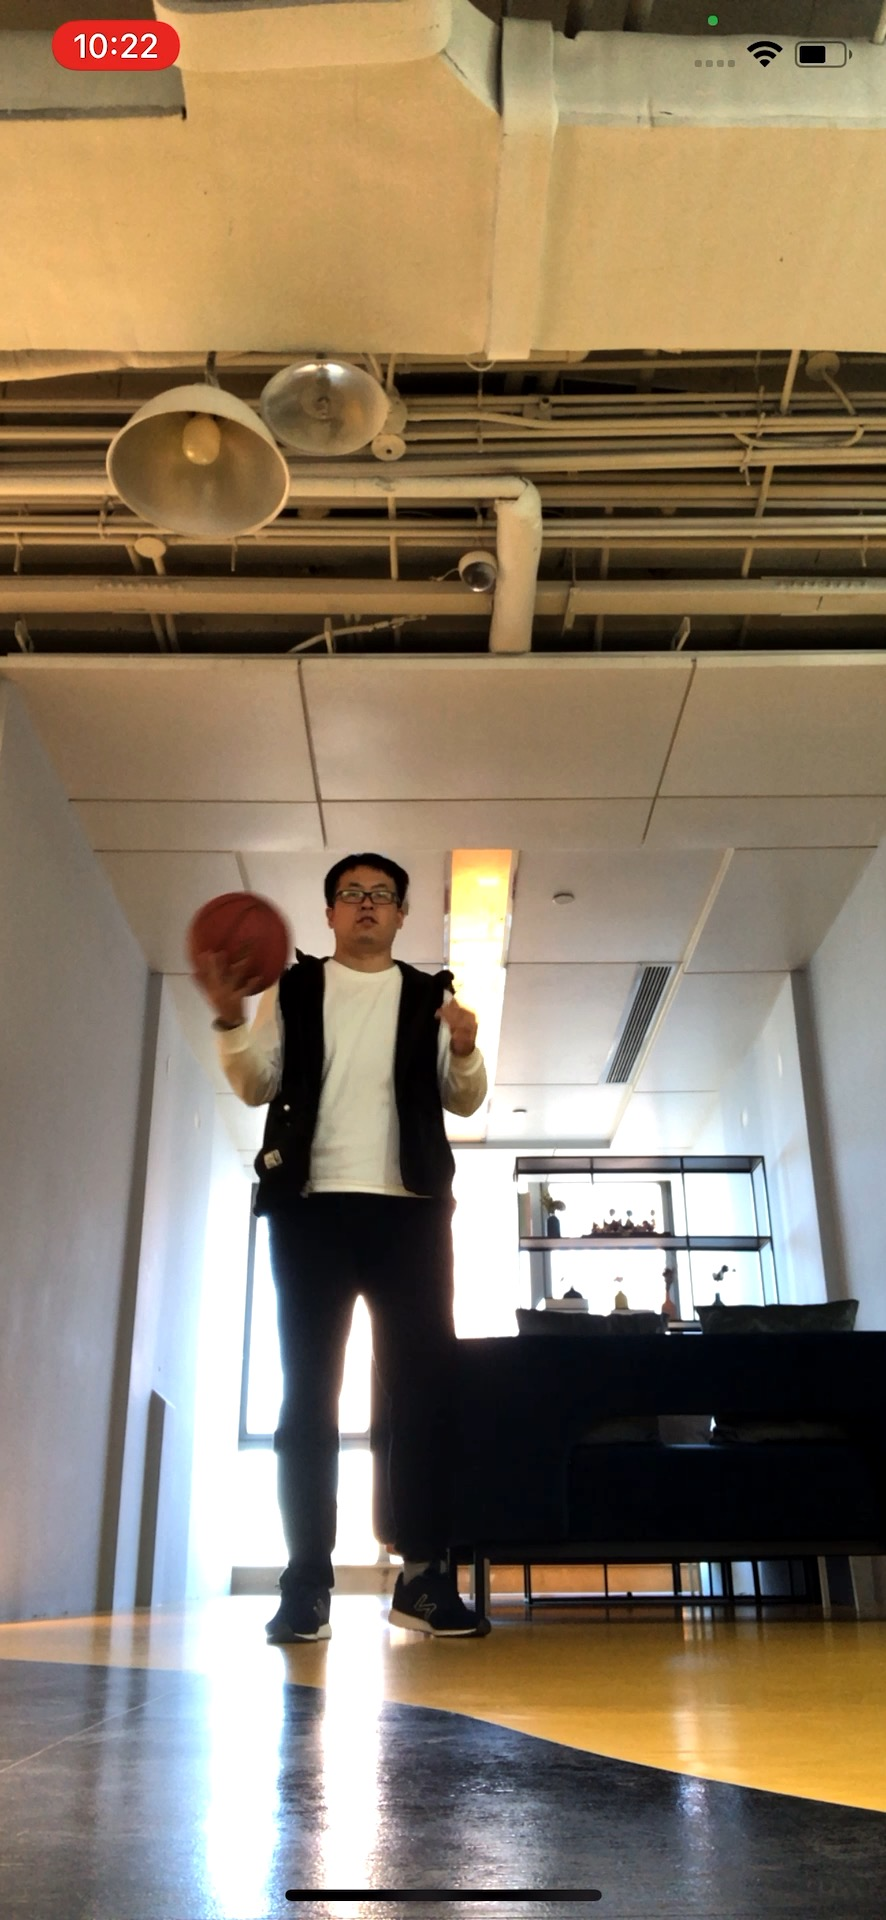ball: (188, 890, 292, 992)
